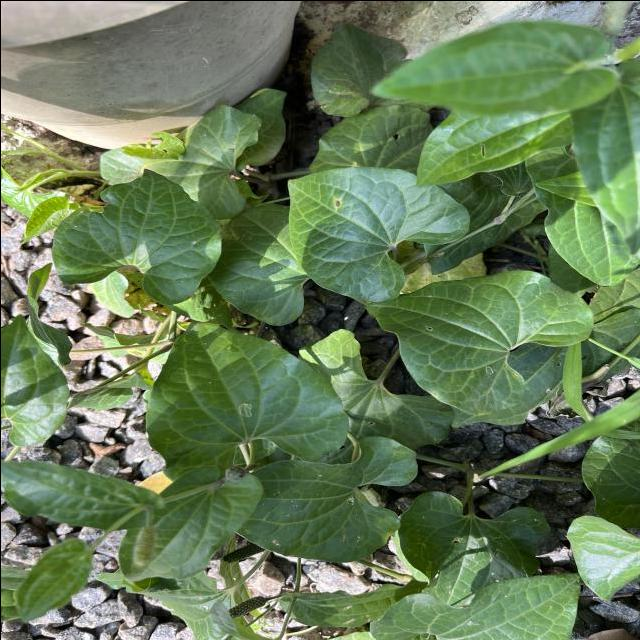Piper longum: (140, 318, 352, 484), (364, 267, 596, 417), (284, 162, 472, 304), (48, 166, 224, 306)
